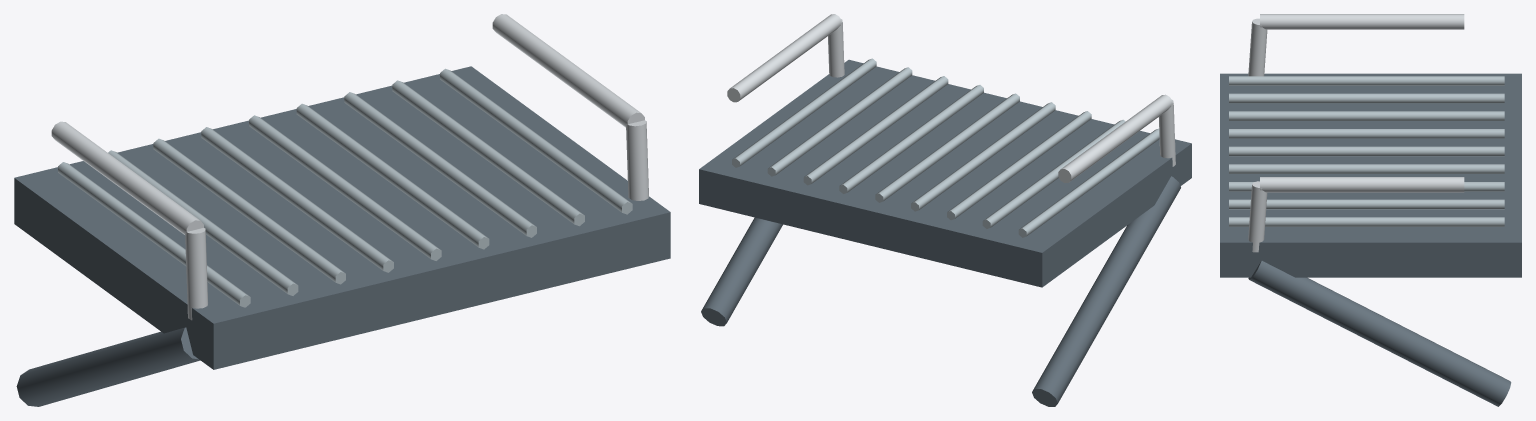
File: eagle_descent.porch.glb
3 views of the same model, side by side, from view 1: azimuth 30°, elevation 25°; view 2: azimuth 150°, elevation 25°; view 3: azimuth 270°, elevation 25° (orthographic). The views are drawn at different scales.
Visible parts, largest first — view 1: eagle_descent.porch.mesh; view 2: eagle_descent.porch.mesh; view 3: eagle_descent.porch.mesh.
Part boxes in pixels (x1,y1,x2,y2): eagle_descent.porch.mesh: (14, 14, 670, 406); eagle_descent.porch.mesh: (699, 14, 1191, 406); eagle_descent.porch.mesh: (1220, 14, 1521, 406).
Size of the model in its own units: 0.9308 by 0.5668 by 0.68.
